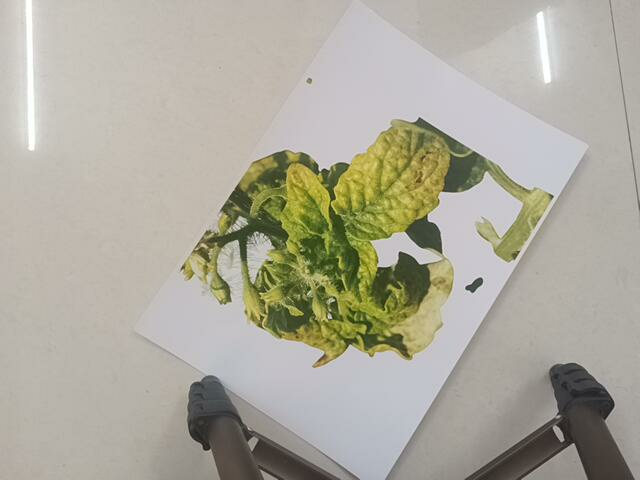Tomamto_Leaf_curl_virus: (183, 124, 587, 349)
